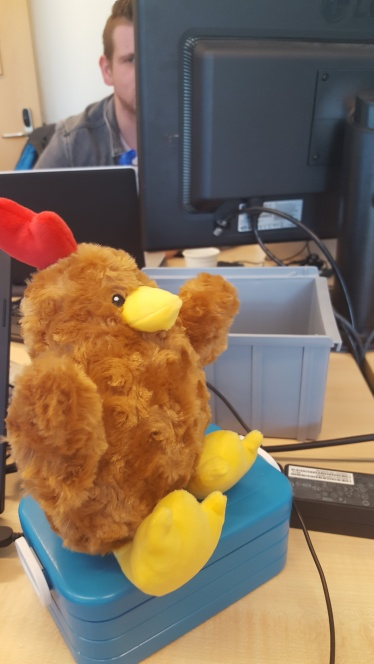chicken_left: (1, 194, 193, 598)
